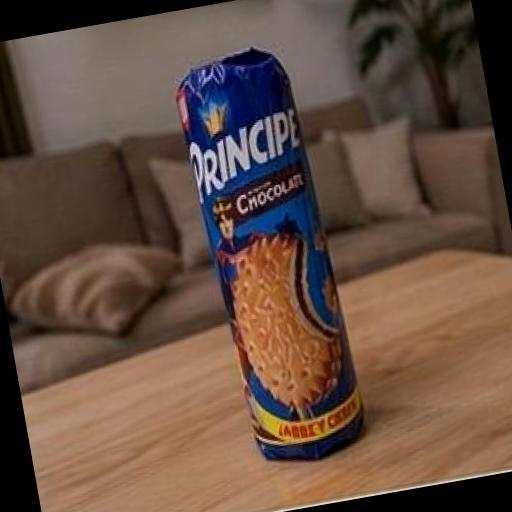prince: (127, 0, 486, 499)
